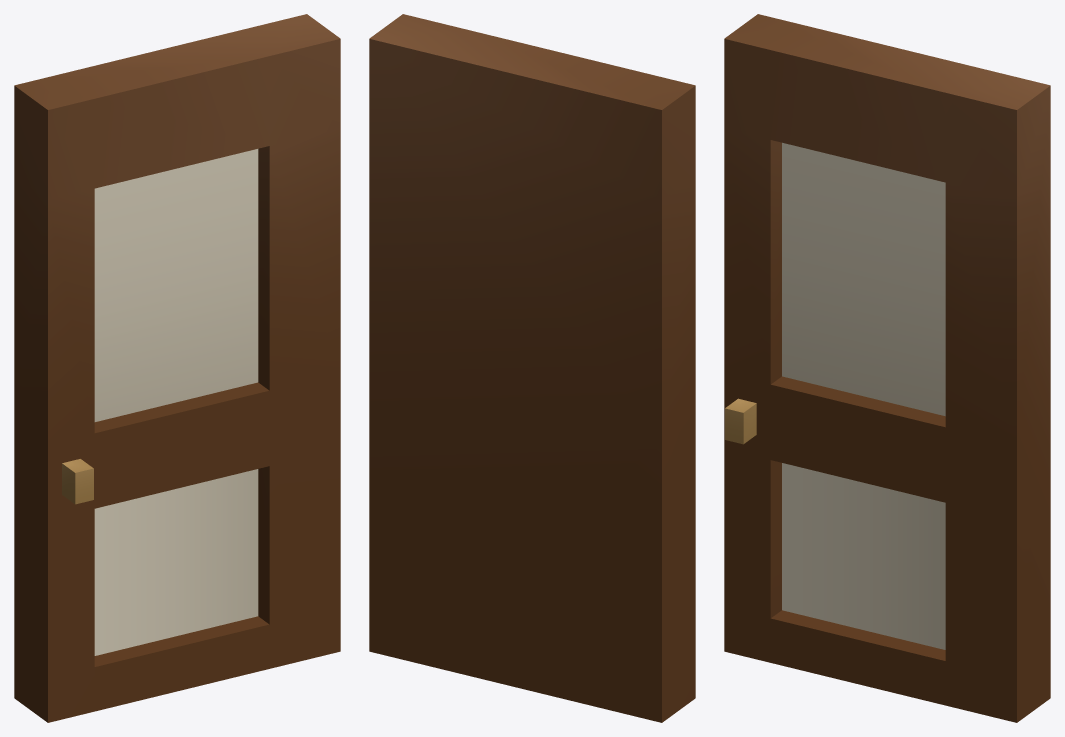
File: House_Door_1m_R.fbx
3 renders of one model, left to right at view 1: azimuth 30°, elevation 25°; view 2: azimuth 150°, elevation 25°; view 3: azimuth 330°, elevation 25°, orthographic.
Visible parts, largest first — view 1: House_Door_1m_R; view 2: House_Door_1m_R; view 3: House_Door_1m_R.
Boxes of the visible parts, left/top/right/bottom form: House_Door_1m_R: left=14, top=14, right=340, bottom=722; House_Door_1m_R: left=369, top=14, right=695, bottom=722; House_Door_1m_R: left=724, top=14, right=1050, bottom=722.
Size of the model in its own units: 1 by 2 by 0.2785.
1 material, 1 textured.
